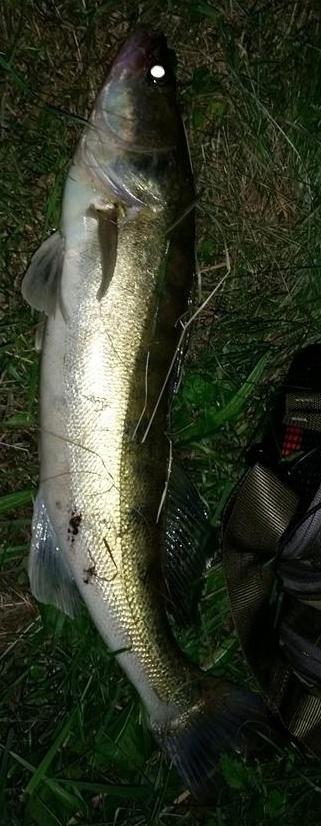Sander lucioperca: (20, 20, 301, 806)
